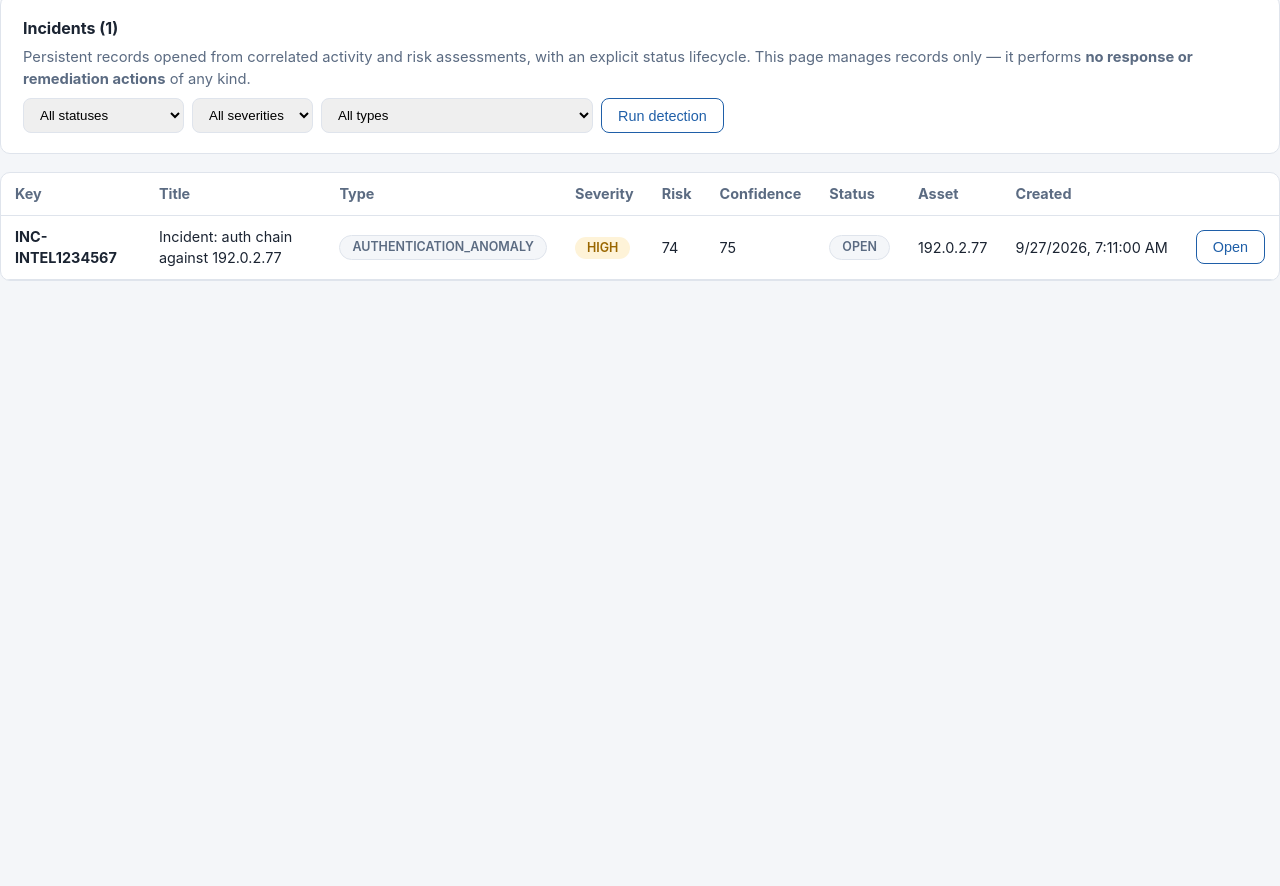
Security timeline (Phase 3, Step 35) › orders entries chronologically with day groups, tones and event deep links
The image size is (1280, 886).
What coordinates should you click on to do the following:
click the button "Open"
I would click on:
 (1230, 247)
Its box is [1196, 230, 1265, 264].
(page scrolled)
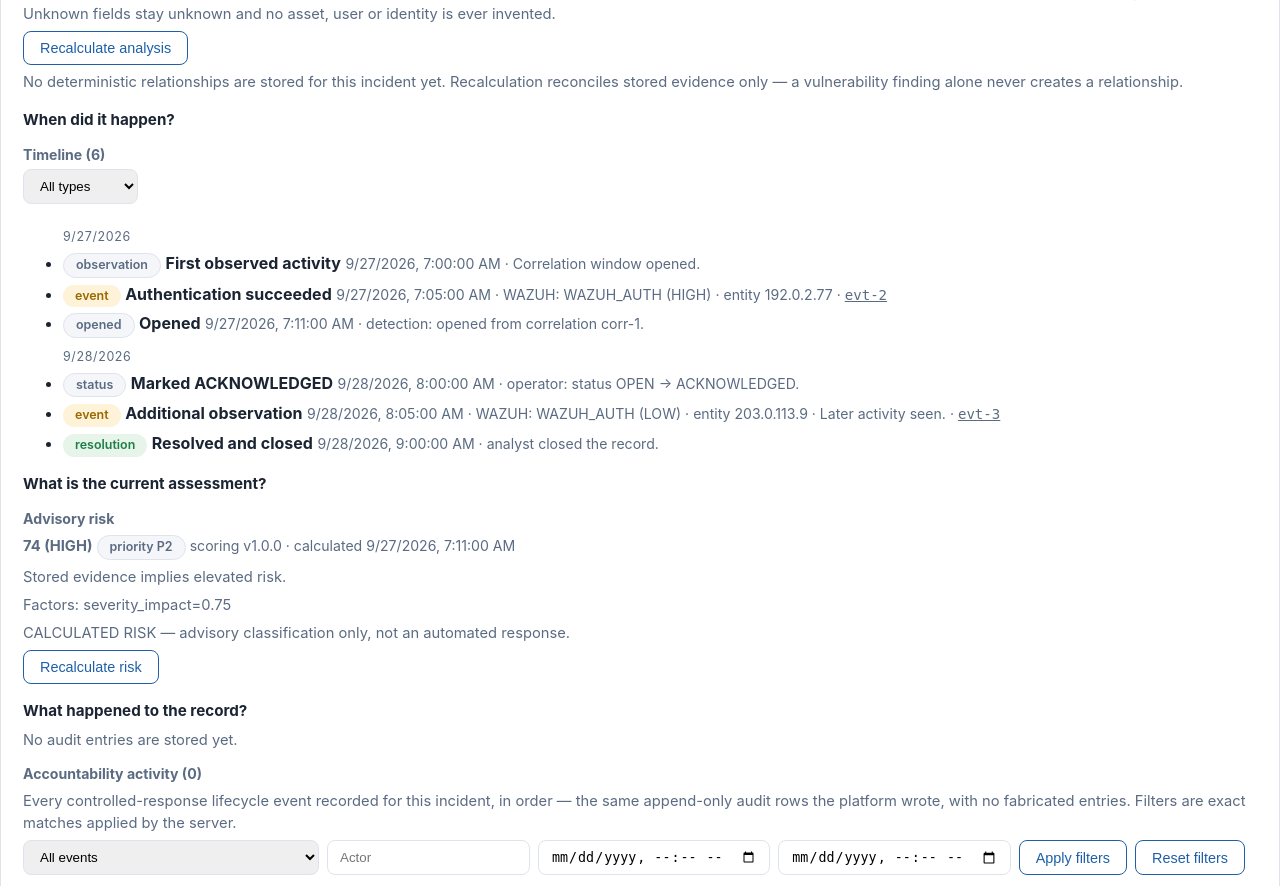
Check: the heading "Timeline (6)" is shown, box [23, 146, 105, 163]
Check: the number of list items is 8
Check: the text "· entity 203.0.113.9 · Later activity seen. · evt-3" is shown, box [681, 405, 1000, 422]
